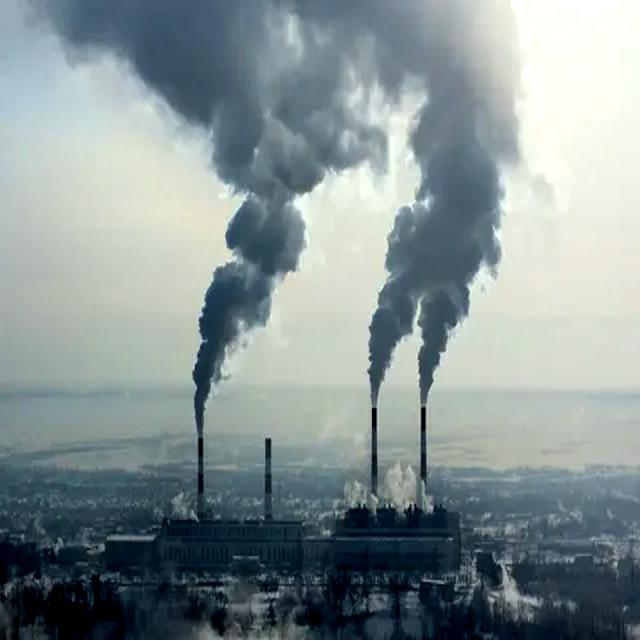Smoke: (154, 1, 332, 434), (370, 9, 524, 399)
